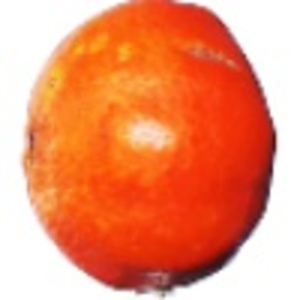tangerina: (18, 1, 280, 300)
